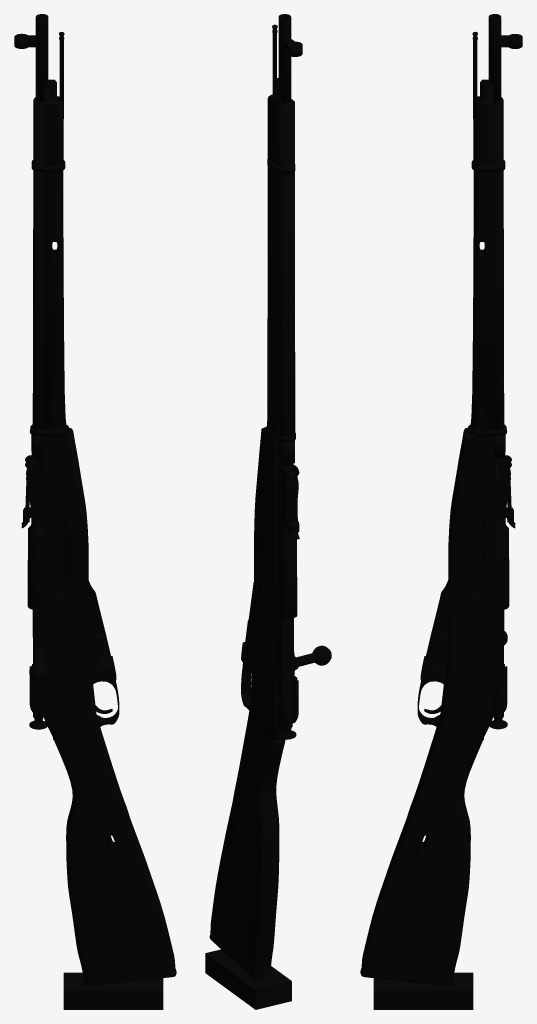
Rendered from MosinNagant__RecoilPad_Rubber.fbx.
3 renders of one model, left to right at view 1: azimuth 90°, elevation 25°; view 2: azimuth 210°, elevation 25°; view 3: azimuth 270°, elevation 25°, orthographic.
Visible parts, largest first — view 1: asset_MosinNagant.001; view 2: asset_MosinNagant.001; view 3: asset_MosinNagant.001.
Boxes of the visible parts, bbox=[...] form: asset_MosinNagant.001: bbox=[14, 14, 176, 1009]; asset_MosinNagant.001: bbox=[205, 14, 331, 1009]; asset_MosinNagant.001: bbox=[360, 14, 522, 1009].
Size of the model in its own units: 0.049 by 0.753 by 0.1125.
